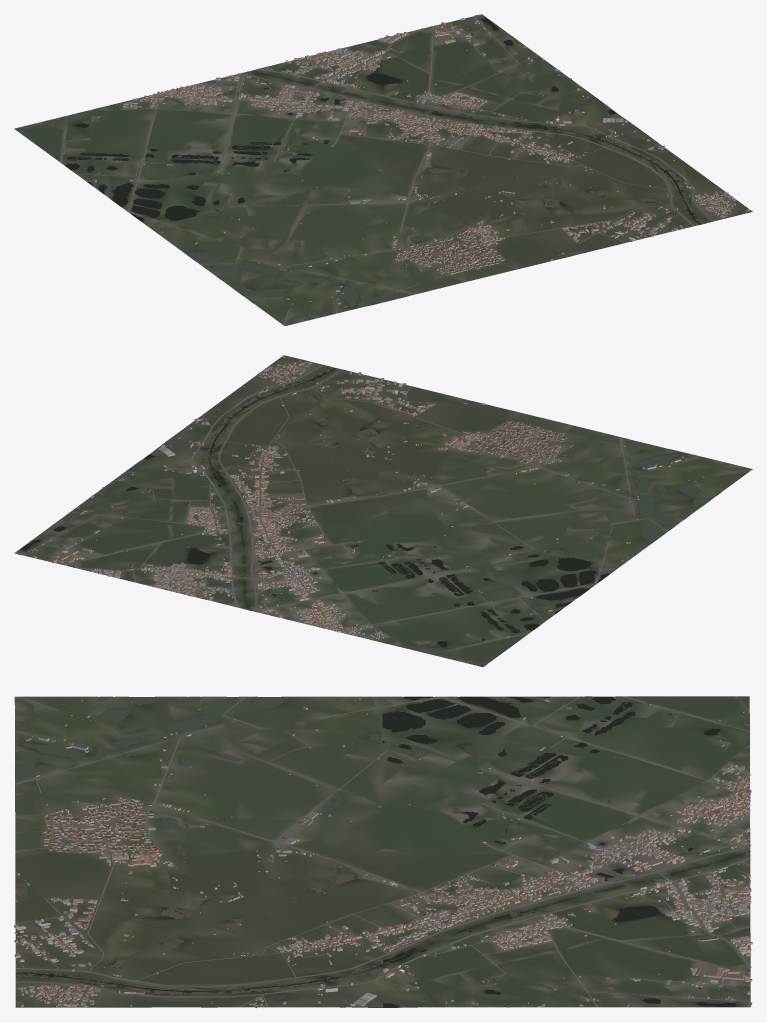
3 renders of one model, top to bottom at view 1: azimuth 30°, elevation 25°; view 2: azimuth 150°, elevation 25°; view 3: azimuth 270°, elevation 25°, orthographic. The views are drawn at different scales.
Parts seen in each view (by area): view 1: ground, buildings, water, roads; view 2: ground, buildings, water, roads; view 3: ground, buildings, water, roads.
Boxes of the visible parts, x1=… form: ground: x1=14, y1=15, x2=752, y2=325; buildings: x1=40, y1=18, x2=749, y2=307; water: x1=65, y1=18, x2=704, y2=310; roads: x1=60, y1=14, x2=736, y2=325; ground: x1=14, y1=355, x2=752, y2=667; buildings: x1=30, y1=356, x2=721, y2=659; water: x1=20, y1=367, x2=724, y2=647; roads: x1=14, y1=362, x2=751, y2=654; ground: x1=14, y1=696, x2=750, y2=1007; buildings: x1=14, y1=697, x2=752, y2=1007; water: x1=15, y1=696, x2=750, y2=1007; roads: x1=15, y1=696, x2=751, y2=1007.
Bounding box in the file's own units: 2815 × 22.88 × 2819.
